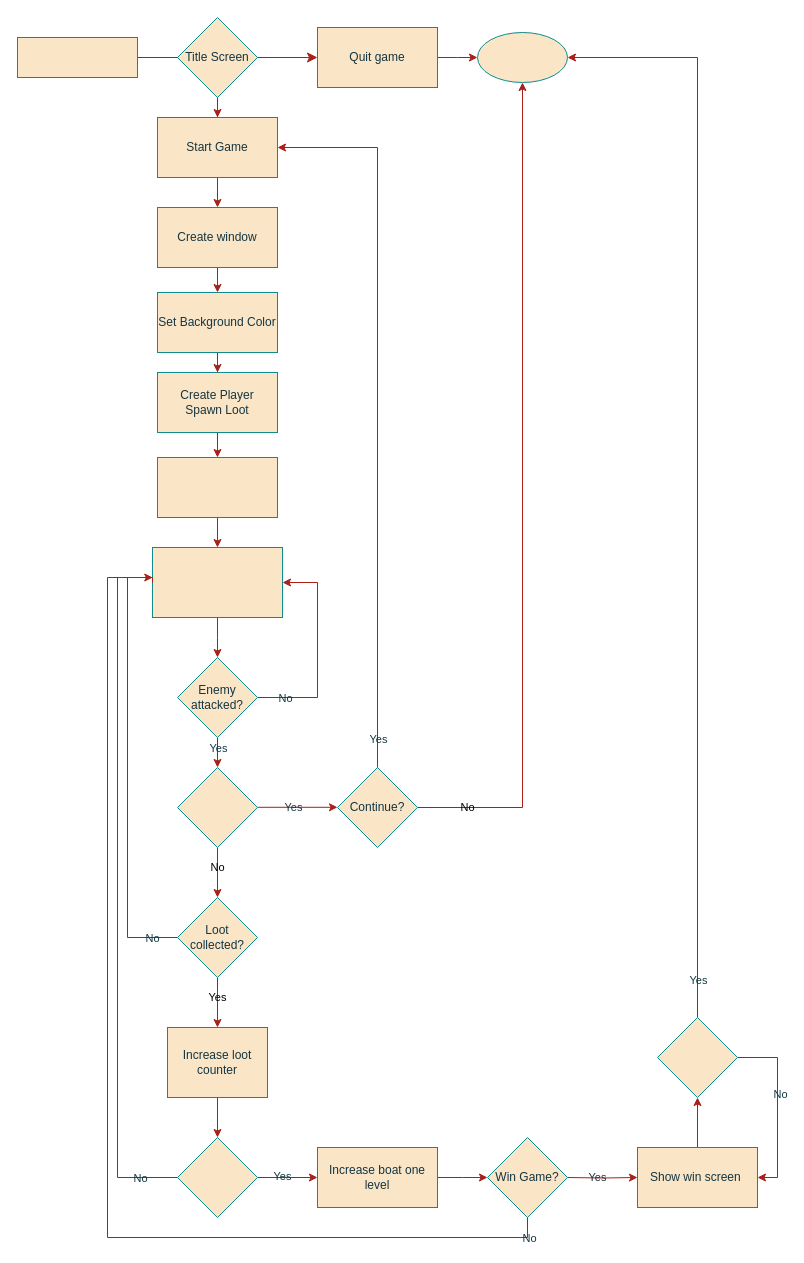
This 804x1263 diagram has some shape labels left out. The box of each missing label's shape, as (x1, y1, x2, y2) in pixels:
Die?: (176, 766, 258, 848)
End Game: (476, 32, 568, 82)
Move boat around trying to collect loot and avoid/kill enemies: (152, 546, 282, 618)
Quit?: (656, 1016, 738, 1098)
Start: (16, 36, 138, 78)
Start boat at level 1: (156, 456, 278, 518)
Upgrade boat?: (176, 1136, 258, 1218)
